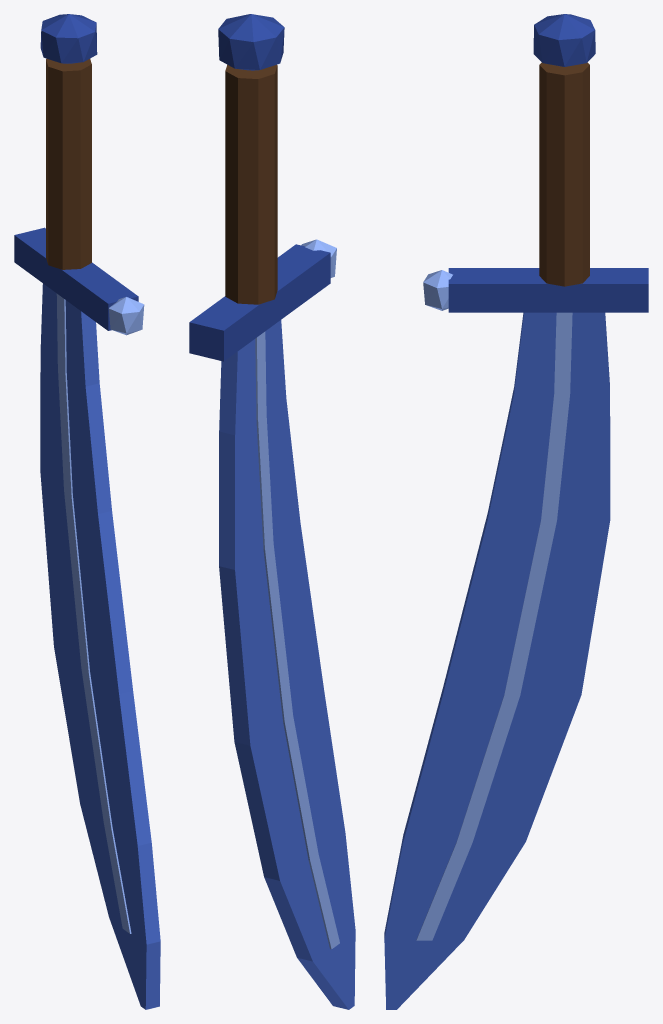
The model's file is held_mithril_scimitar.glb.
3 renders of one model, left to right at view 1: azimuth 30°, elevation 25°; view 2: azimuth 150°, elevation 25°; view 3: azimuth 270°, elevation 25°, orthographic. The views are drawn at different scales.
Parts seen in each view (by area): view 1: held_mithril_scimitar; view 2: held_mithril_scimitar; view 3: held_mithril_scimitar.
Boxes of the visible parts, x1=… form: held_mithril_scimitar: x1=14, y1=14, x2=160, y2=1009; held_mithril_scimitar: x1=189, y1=14, x2=355, y2=1009; held_mithril_scimitar: x1=384, y1=14, x2=648, y2=1009.
Bounding box in the file's own units: 0.0468 × 0.822 × 0.1983.
